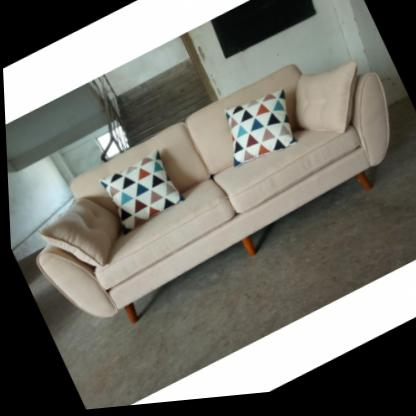Sofa: (2, 31, 416, 355)
